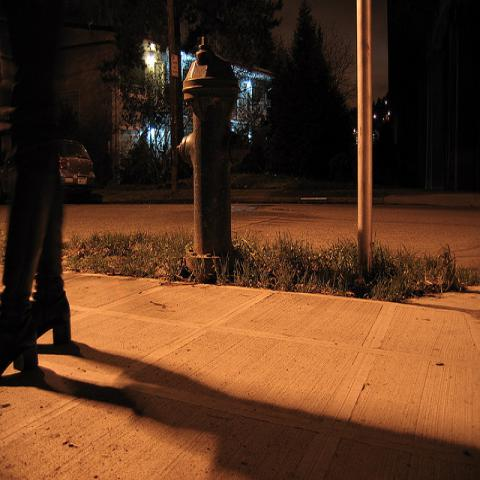car: (59, 140, 96, 204)
